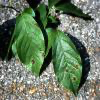Tomato leaf bacterial spot: (51, 29, 86, 99), (14, 12, 48, 79)
